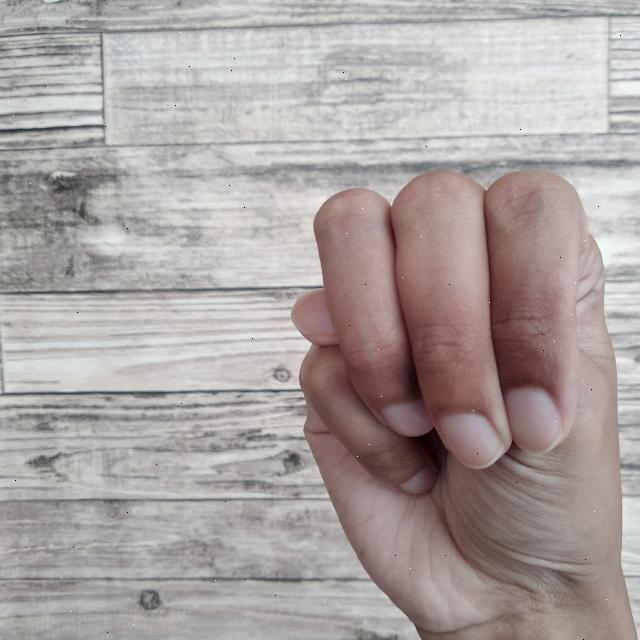M: (287, 158, 640, 640)
